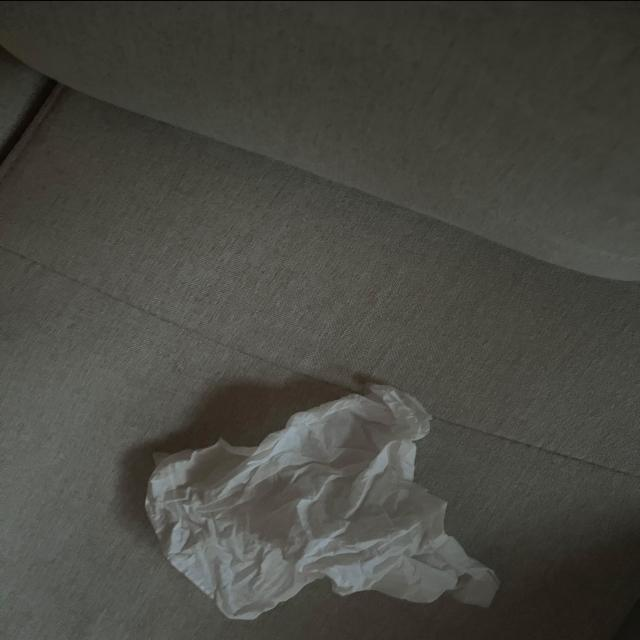Paper: (130, 380, 508, 621)
